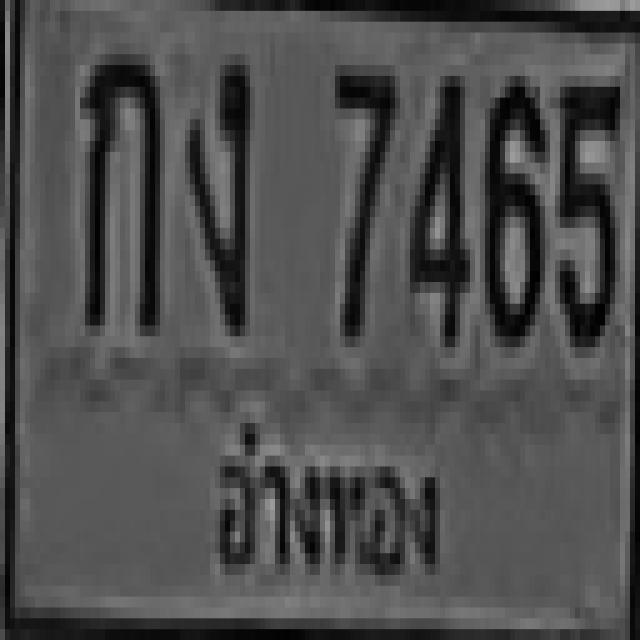10GorGai: (80, 44, 155, 326)
16NgorNgu: (185, 44, 245, 326)
4: (405, 65, 465, 336)
5: (555, 76, 620, 336)
6: (480, 65, 540, 336)
7: (330, 55, 390, 336)
AngThong: (198, 403, 451, 596)
